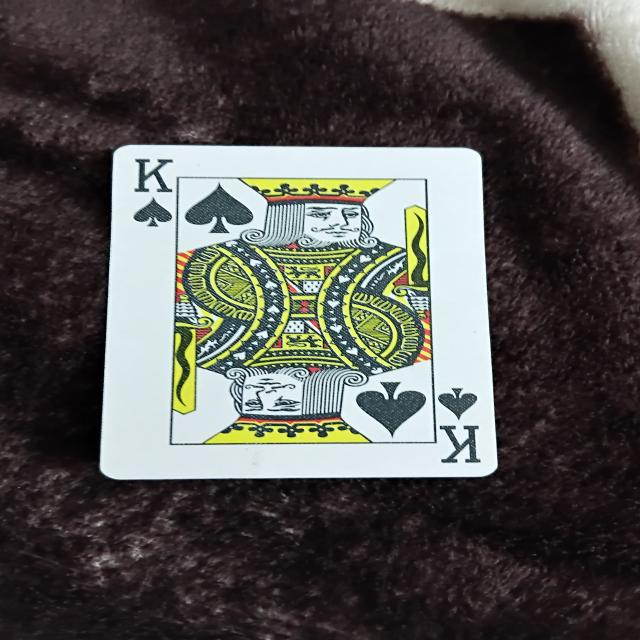KS: (114, 144, 496, 476)
